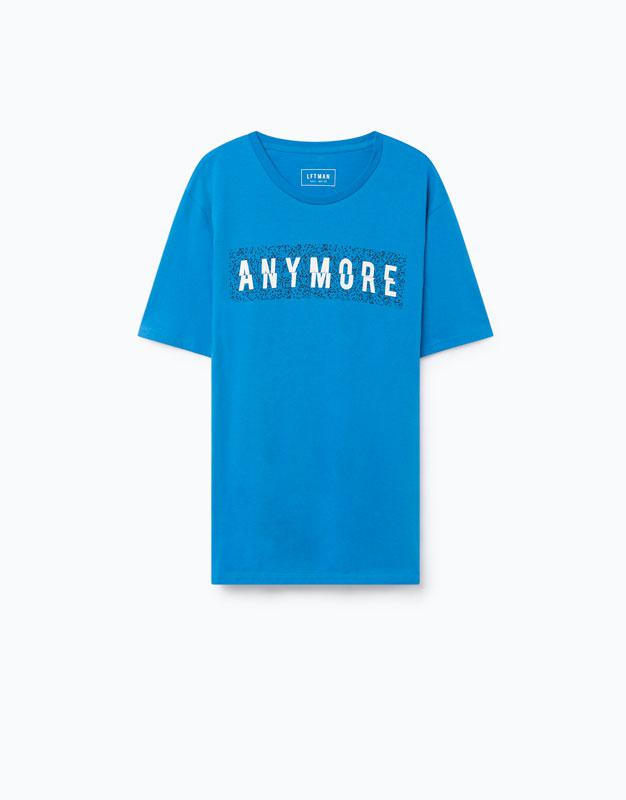teeshirt: (136, 129, 523, 625)
